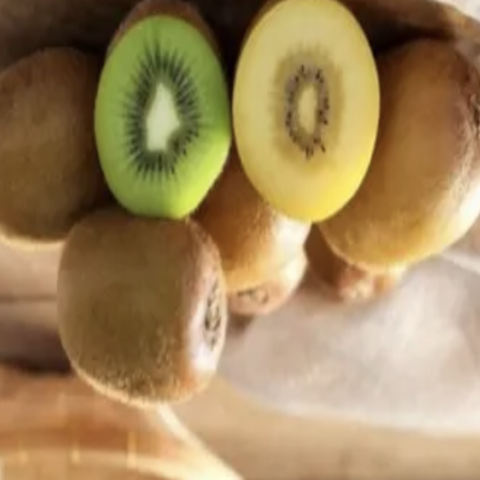kiwi: (306, 3, 479, 310), (44, 214, 241, 414)
